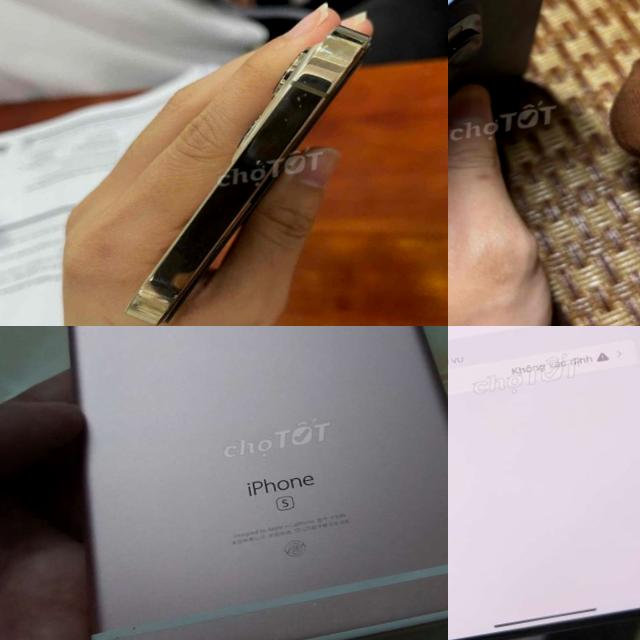gen_12_13: (58, 18, 410, 326)
gen_15: (448, 0, 631, 184)
gen_6: (10, 326, 448, 640)
gen_x_xs: (448, 326, 640, 640)
scratch: (227, 70, 345, 194)
